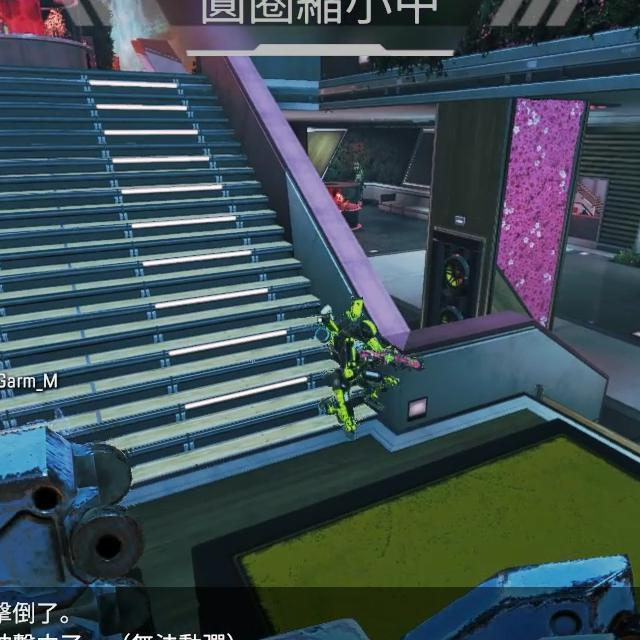avatar: (314, 295, 403, 442)
